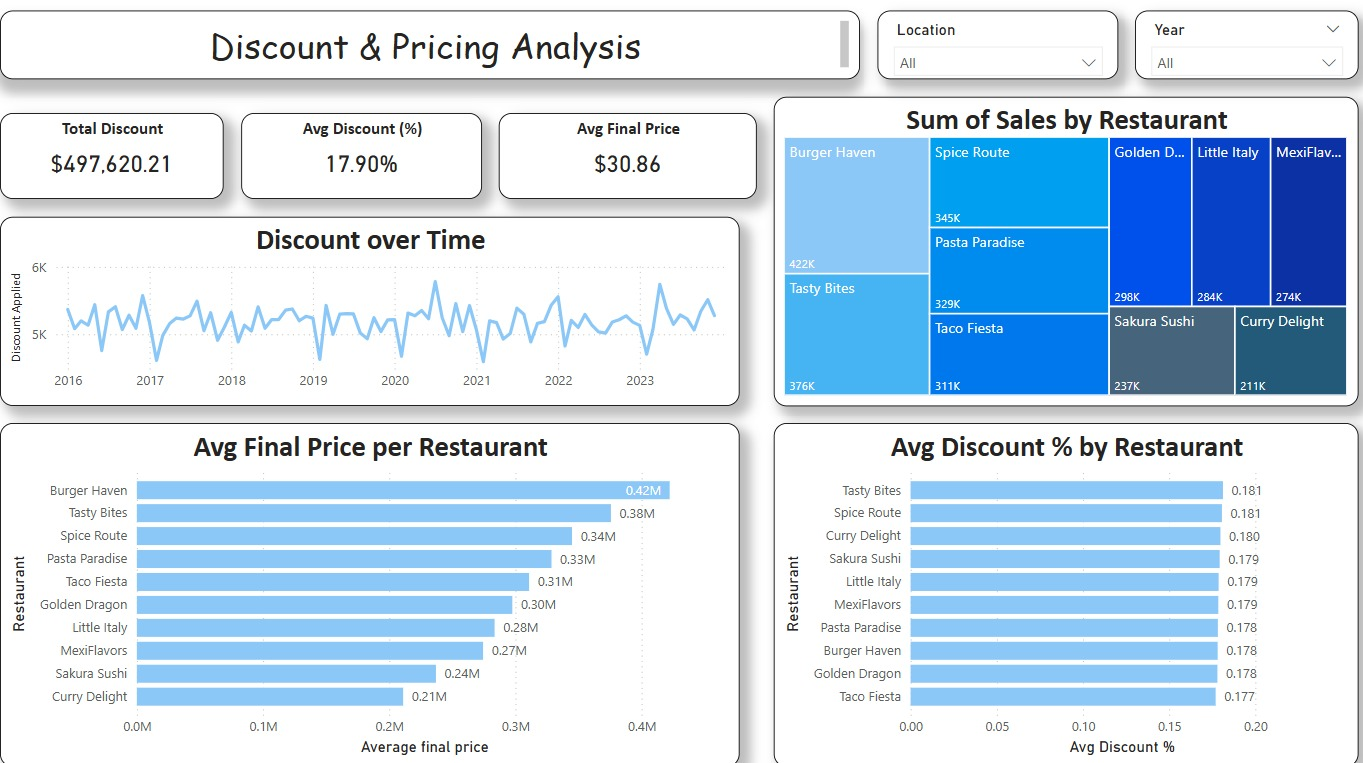

This screenshot's page, from the dashboard's own definition file:
{"tool":"powerbi","page":{"name":"Discount & Pricing Analysis","canvas":[1280,720],"ordinal":3},"visuals":[{"type":"textbox","box":[0,0,800,80],"z":0},{"type":"card","title":"Total Discount","fields":{"Values":["Sum(Food_Delivery final dataset.DiscountApplied)"]},"box":[0,112,208,80],"z":1000},{"type":"card","title":"Avg Discount (%)","fields":{"Values":["Food_Delivery final dataset.Avg Discount %"]},"box":[224,112,224,80],"z":2000},{"type":"card","title":"Avg Final Price","fields":{"Values":["Avg(Food_Delivery final dataset.FinalPrice)"]},"box":[464,112,240,80],"z":3000},{"type":"lineChart","title":"Discount over Time","fields":{"Category":["Food_Delivery final dataset.OrderDate.Variation.Date Hierarchy.Year","Food_Delivery final dataset.OrderDate.Variation.Date Hierarchy.Month"],"Y":["Sum(Food_Delivery final dataset.DiscountApplied)"]},"box":[0,208,688,176],"z":4000},{"type":"treemap","title":"Sum of Sales by Restaurant","fields":{"Group":["Food_Delivery final dataset.Restaurant"],"Values":["Sum(Food_Delivery final dataset.FinalPrice)"]},"box":[720,96,544,288],"z":5000},{"type":"clusteredBarChart","title":"Avg Final Price per Restaurant","fields":{"Category":["Food_Delivery final dataset.Restaurant"],"Y":["Sum(Food_Delivery final dataset.FinalPrice)"]},"box":[0,400,688,320],"z":6000},{"type":"slicer","fields":{"Values":["Food_Delivery final dataset.Location"]},"box":[816,0,208,80],"z":7000},{"type":"slicer","fields":{"Values":["Food_Delivery final dataset.OrderDate.Variation.Date Hierarchy.Year"]},"box":[1040,0,224,80],"z":8000},{"type":"clusteredBarChart","fields":{"Y":["Food_Delivery final dataset.Avg Discount %"],"Category":["Food_Delivery final dataset.Restaurant"]},"box":[720,400,544,320],"z":9000}]}

Visuals, with their boxes in screenshot pixels (x1, y1, x2, y2), scaled from the page's 1280x720 canvas onto the 1363x763 screenshot:
textbox: region(0, 0, 852, 85)
"Total Discount" card: region(0, 119, 221, 203)
"Avg Discount (%)" card: region(239, 119, 477, 203)
"Avg Final Price" card: region(494, 119, 750, 203)
"Discount over Time" lineChart: region(0, 220, 733, 407)
"Sum of Sales by Restaurant" treemap: region(767, 102, 1346, 407)
"Avg Final Price per Restaurant" clusteredBarChart: region(0, 424, 733, 762)
slicer - Food_Delivery final dataset.Location: region(869, 0, 1090, 85)
slicer - Food_Delivery final dataset.OrderDate.Variation.Date Hierarchy.Year: region(1107, 0, 1346, 85)
clusteredBarChart - Food_Delivery final dataset.Avg Discount % x Food_Delivery final dataset.Restaurant: region(767, 424, 1346, 762)
